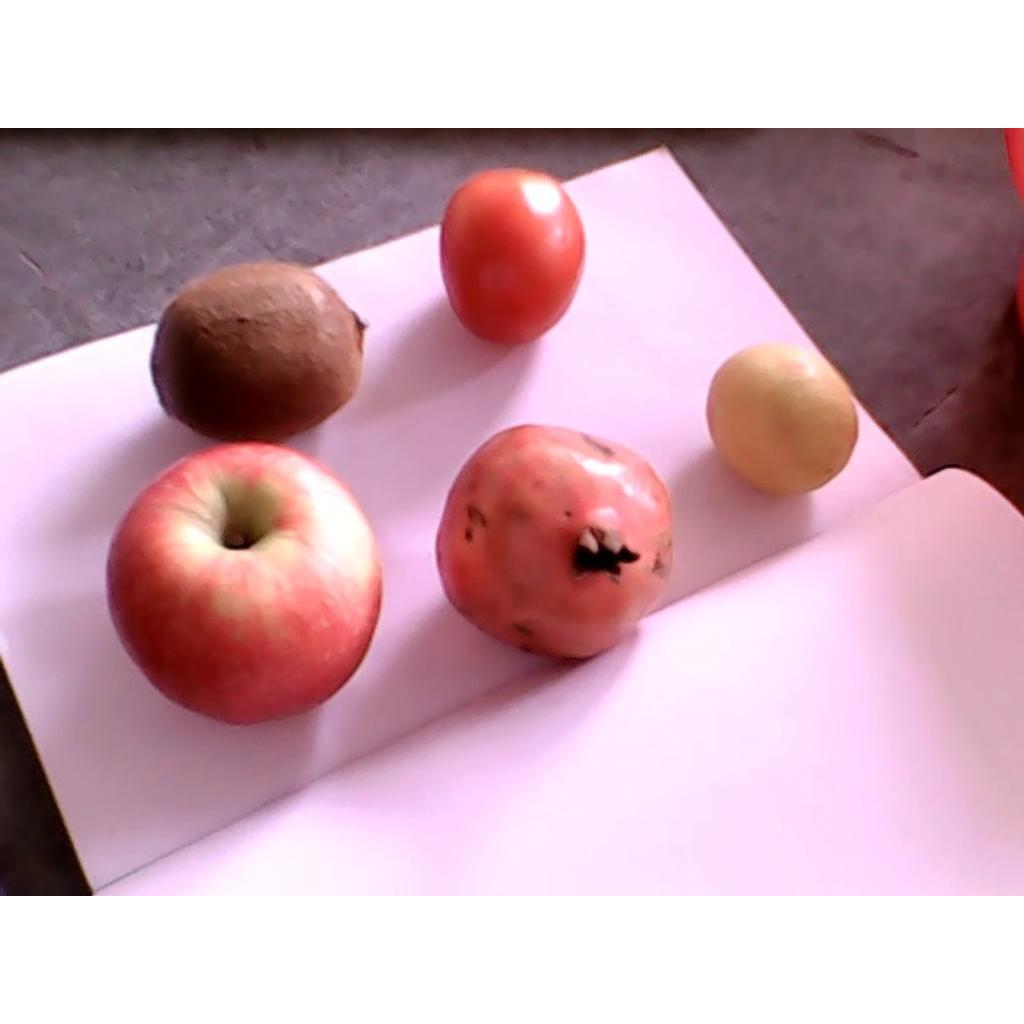apple: (106, 440, 382, 727)
kiwi: (151, 259, 368, 444)
lemon: (707, 345, 856, 491)
pomegranate: (434, 424, 672, 658)
tomato: (439, 169, 586, 346)
